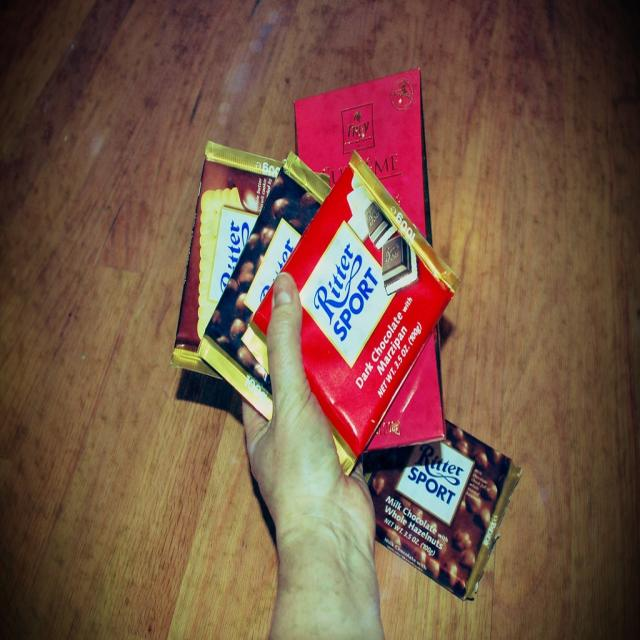rittersport: (299, 220, 399, 366), (397, 441, 473, 523), (210, 201, 257, 305)
